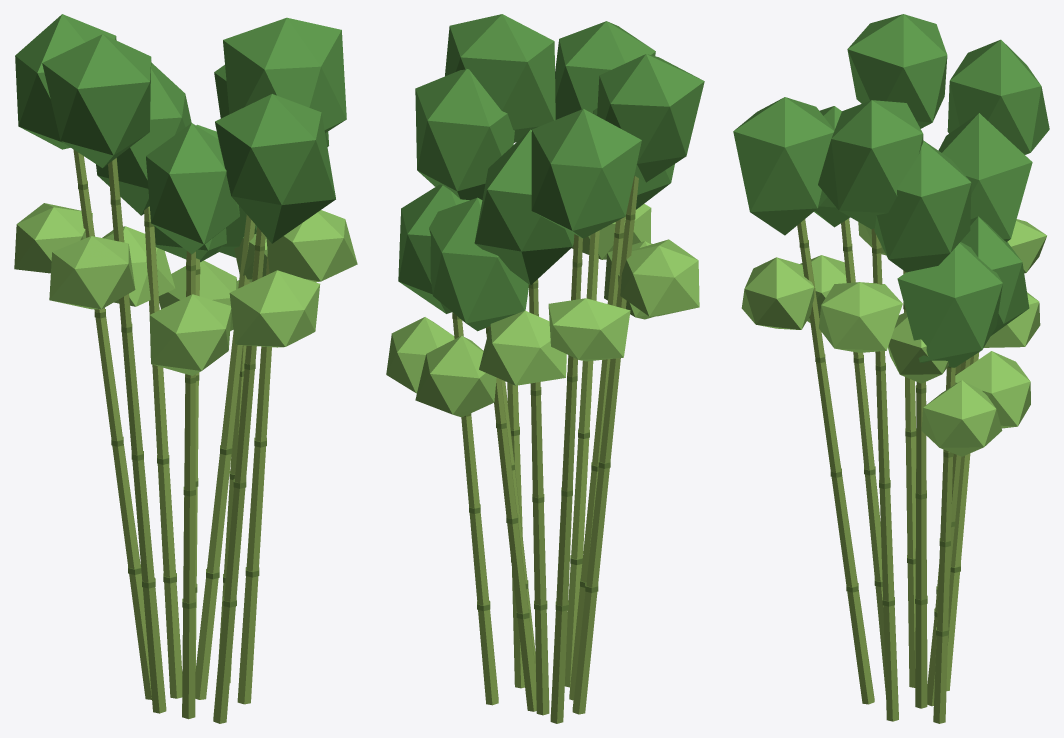
The model's file is bamboo.glb.
3 views of the same model, side by side, from view 1: azimuth 30°, elevation 25°; view 2: azimuth 150°, elevation 25°; view 3: azimuth 270°, elevation 25° (orthographic). The views are drawn at different scales.
Parts seen in each view (by area): view 1: Bamboo_Leaves, Bamboo_Culm, Bamboo_LeavesLight, Bamboo_Node; view 2: Bamboo_Leaves, Bamboo_Culm, Bamboo_LeavesLight, Bamboo_Node; view 3: Bamboo_Leaves, Bamboo_Culm, Bamboo_LeavesLight, Bamboo_Node.
Boxes of the visible parts, <box> form: Bamboo_Leaves: <box>15,14,346,262</box>; Bamboo_Culm: <box>73,149,271,723</box>; Bamboo_LeavesLight: <box>14,203,357,375</box>; Bamboo_Node: <box>78,181,266,608</box>; Bamboo_Leaves: <box>398,14,704,331</box>; Bamboo_Culm: <box>452,175,638,723</box>; Bamboo_LeavesLight: <box>386,204,699,417</box>; Bamboo_Node: <box>452,214,635,619</box>; Bamboo_Leaves: <box>733,14,1049,367</box>; Bamboo_Culm: <box>797,218,979,723</box>; Bamboo_LeavesLight: <box>741,219,1046,456</box>; Bamboo_Node: <box>799,240,960,636</box>.
Size of the model in its own units: 13.93 by 32.21 by 14.35.
